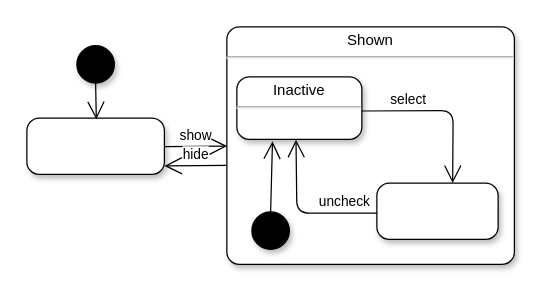
Image size: 544x295. Some labels were removed from this diagram. Here are the shapes that lost their labels. From the top down, the centre of each, then its label:
At (96,147): "Hidden".
At (438,212): "Active".
